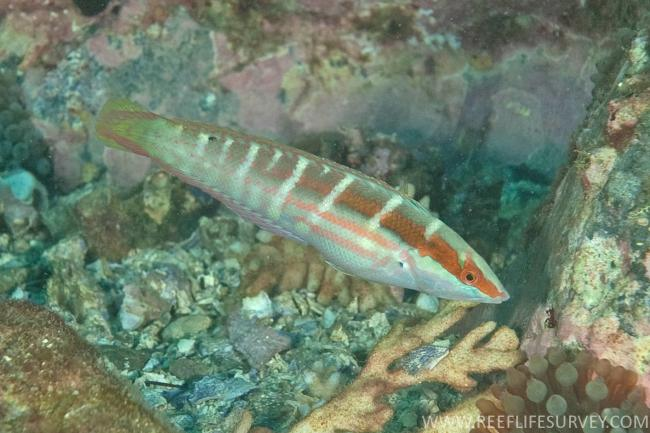fish: (96, 96, 511, 304)
